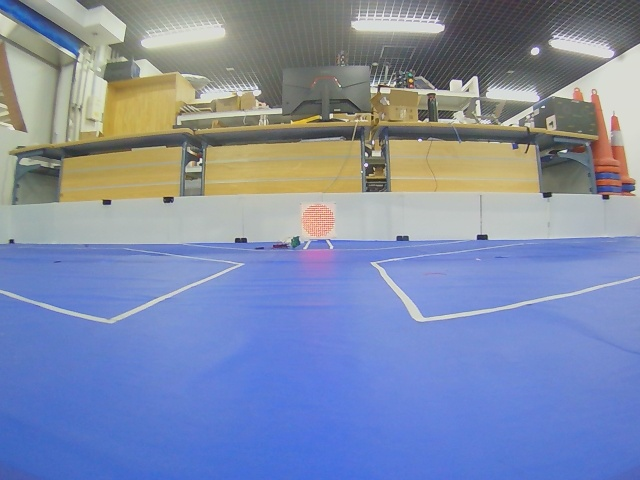red: (301, 203, 335, 238)
